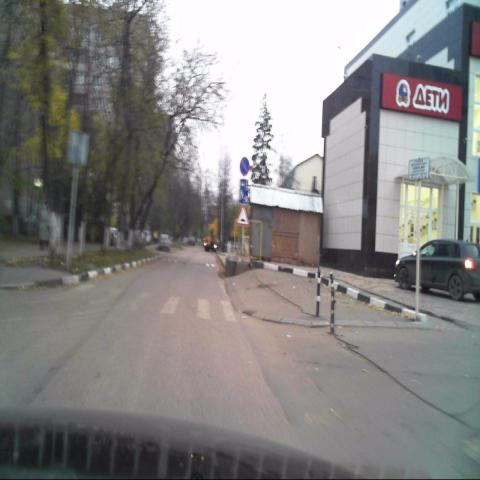5_21: (240, 179, 250, 204)
